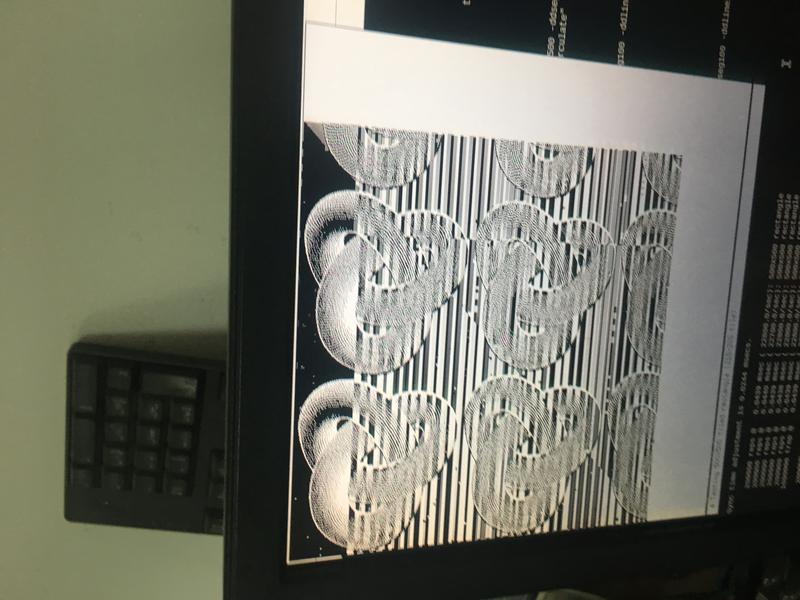xrandr_pass: (289, 11, 763, 555)
